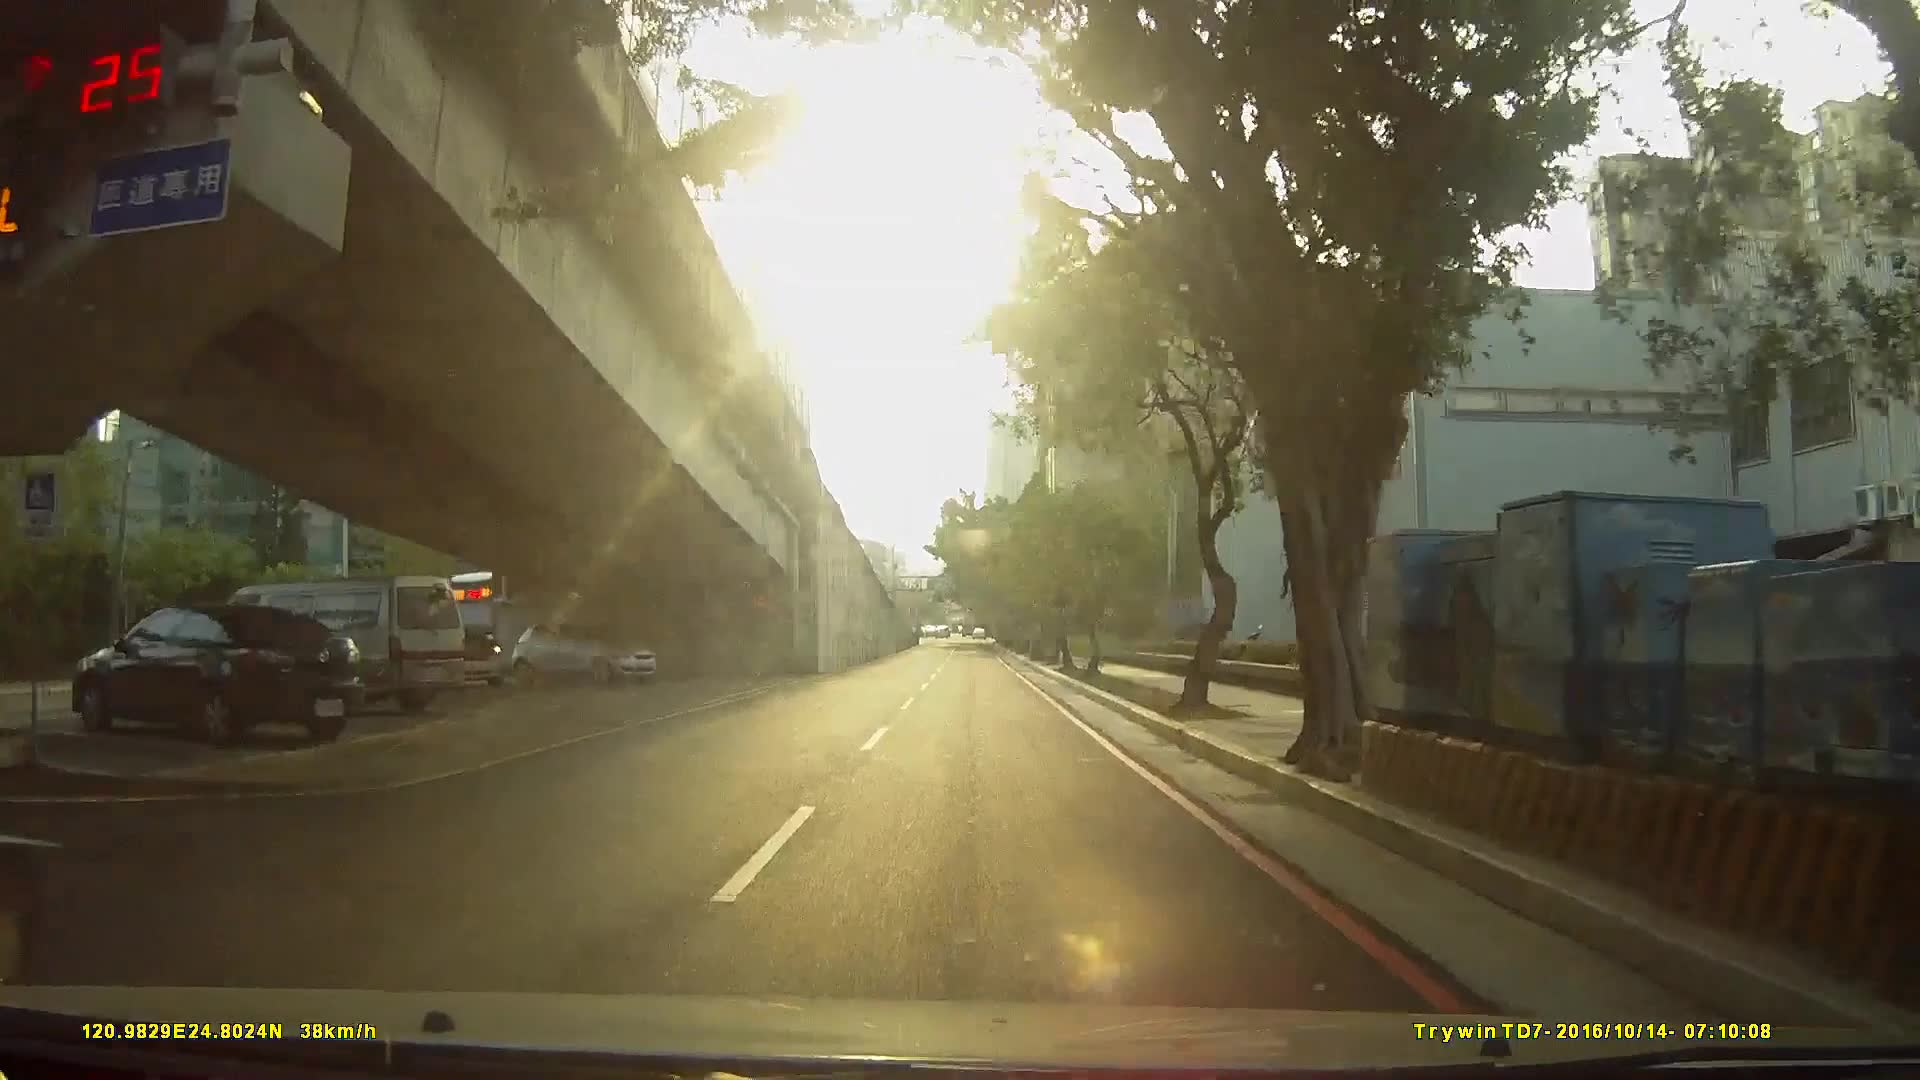vehicle: (55, 583, 367, 742), (191, 574, 456, 713), (504, 620, 655, 688), (407, 621, 502, 690)
